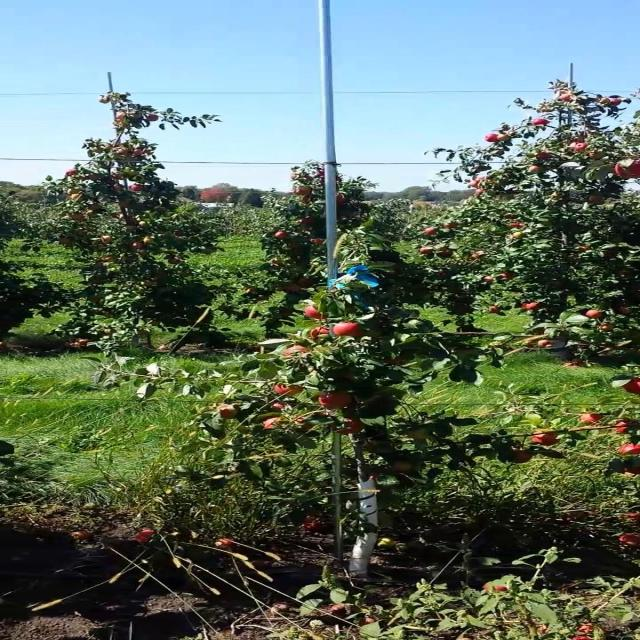apple: (331, 320, 364, 338), (316, 392, 352, 408), (336, 417, 363, 435), (529, 430, 559, 446), (272, 382, 304, 396), (617, 160, 636, 179), (303, 304, 327, 319), (612, 162, 632, 179), (510, 448, 532, 463), (282, 344, 308, 356), (388, 460, 414, 472), (308, 326, 330, 340), (582, 307, 606, 319), (578, 412, 604, 423), (218, 404, 238, 418), (611, 418, 631, 432), (616, 443, 639, 455), (622, 378, 639, 393), (292, 415, 312, 427), (382, 355, 404, 365), (262, 417, 280, 429), (621, 464, 639, 475), (404, 429, 426, 438), (268, 400, 284, 410)
